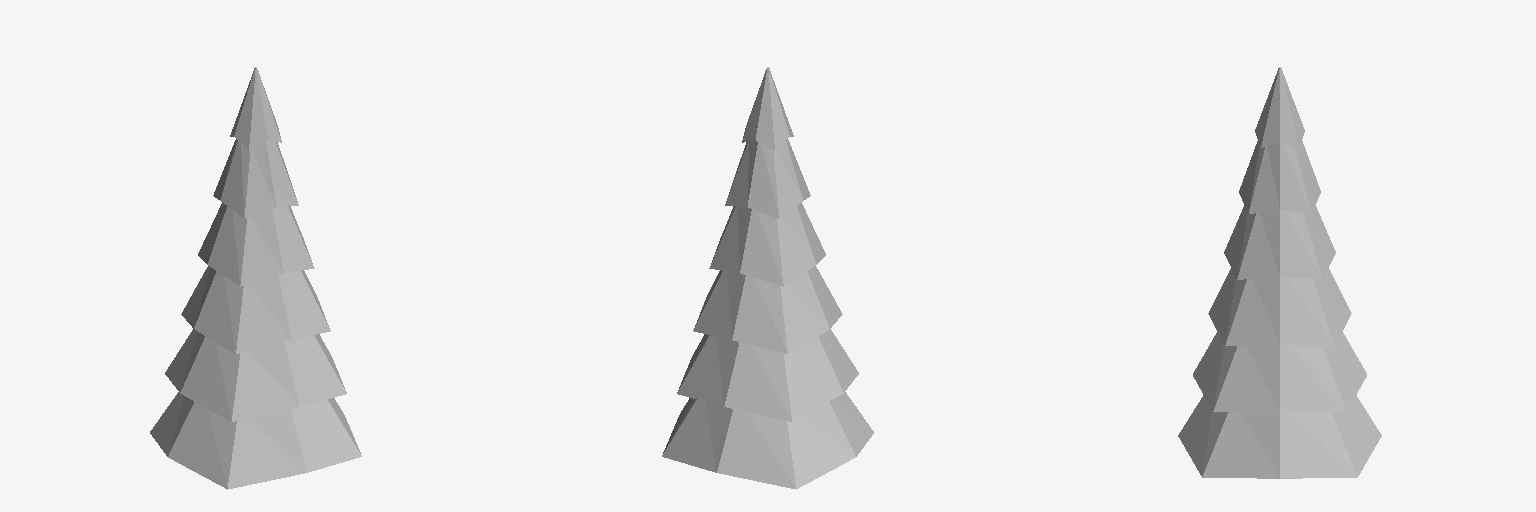
File: leaves.obj
3 renders of one model, left to right at view 1: azimuth 30°, elevation 25°; view 2: azimuth 150°, elevation 25°; view 3: azimuth 270°, elevation 25°, orthographic.
Visible parts, largest first — view 1: SapinHiver.015_Cylinder.034; view 2: SapinHiver.015_Cylinder.034; view 3: SapinHiver.015_Cylinder.034.
Boxes of the visible parts, x1=… form: SapinHiver.015_Cylinder.034: x1=150, y1=67, x2=361, y2=489; SapinHiver.015_Cylinder.034: x1=662, y1=67, x2=873, y2=489; SapinHiver.015_Cylinder.034: x1=1178, y1=67, x2=1381, y2=478.
Bounding box in the file's own units: 1.93 × 3.94 × 1.93.